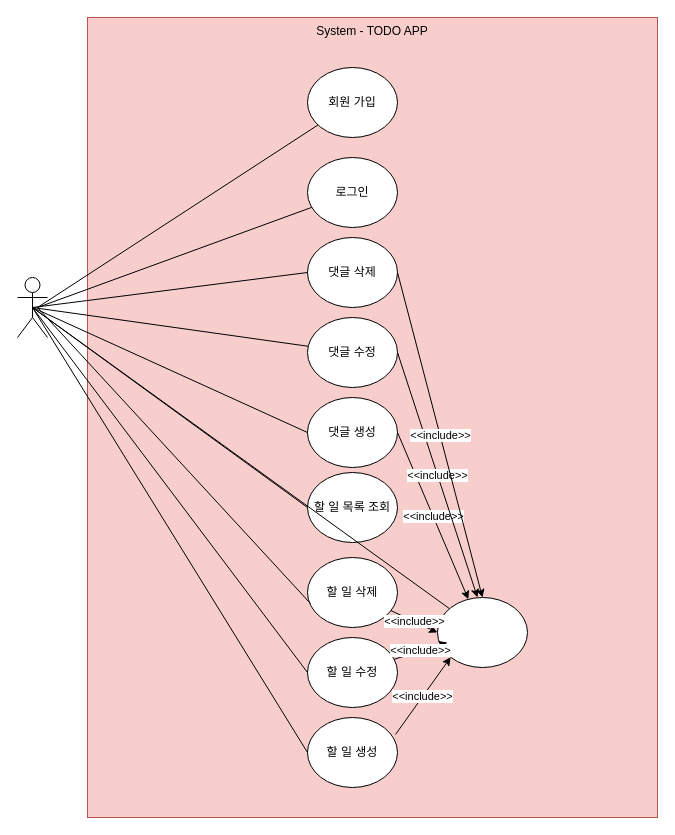
The diagram is 675 pixels wide and 835 high, and some of its shapes have lost their labels. Here are the shapes that lost their labels. From the top down, the centre of each, then its label:
At (x=32, y=307): "Actor".
At (x=482, y=632): "특정 할 일 조회".
